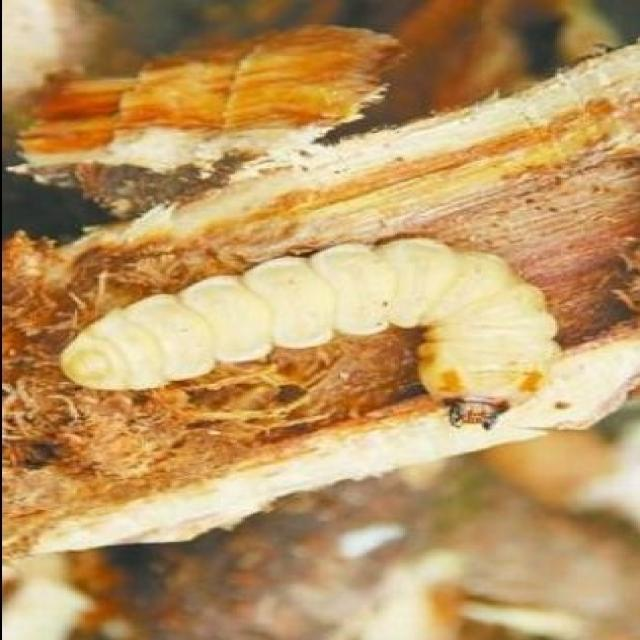peach borer: (59, 231, 579, 440)
